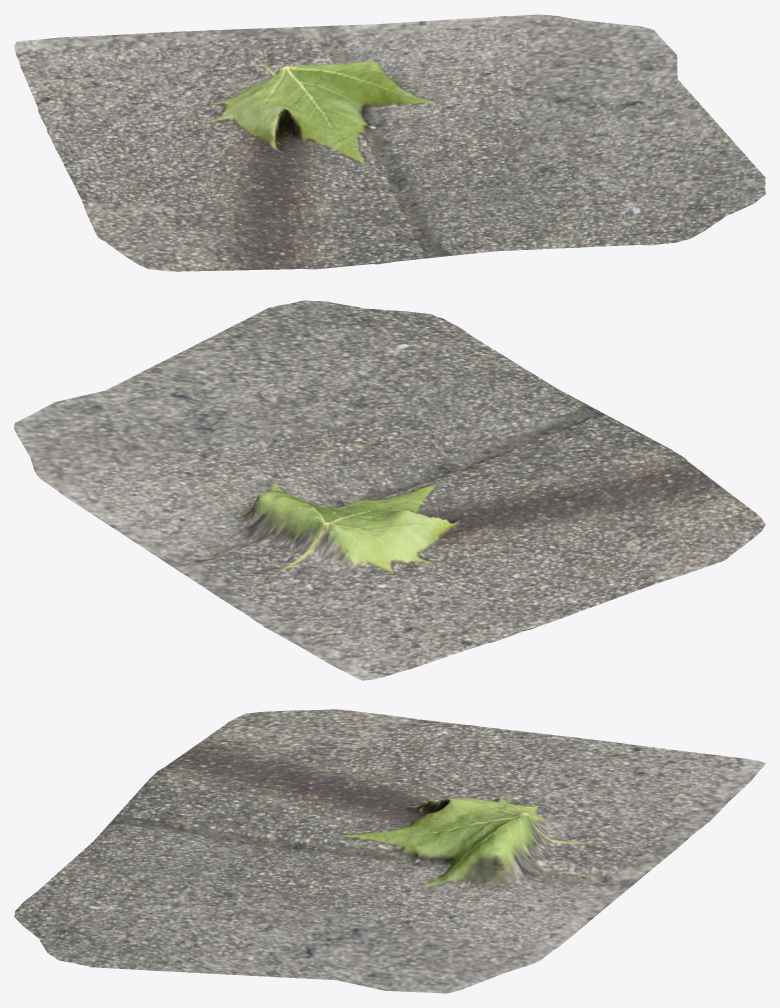
File: scaniverse-2025-05-22-144110.fbx
3 views of the same model, one above another, from view 1: azimuth 30°, elevation 25°; view 2: azimuth 150°, elevation 25°; view 3: azimuth 270°, elevation 25° (orthographic). The views are drawn at different scales.
Parts seen in each view (by area): view 1: mesh; view 2: mesh; view 3: mesh.
Part boxes in pixels (x1,y1,x2,y2): mesh: (14,14,765,271); mesh: (14,300,765,680); mesh: (14,709,765,993).
Bounding box in the file's own units: 0.4597 × 0.0259 × 0.4815.
Materials: 1 (1 with a texture image).
